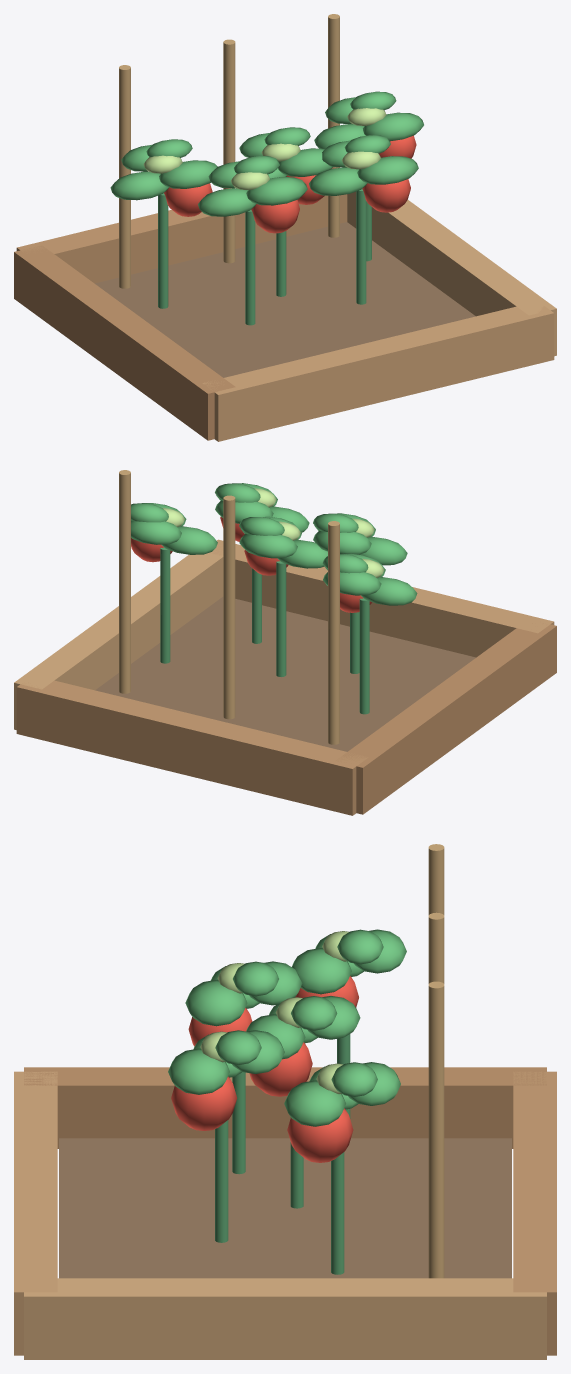
Rendered from crop_tomato_mid.glb.
3 renders of one model, top to bottom at view 1: azimuth 30°, elevation 25°; view 2: azimuth 150°, elevation 25°; view 3: azimuth 270°, elevation 25°, orthographic. The views are drawn at different scales.
Size of the model in its own units: 0.935 by 0.64 by 0.935.
